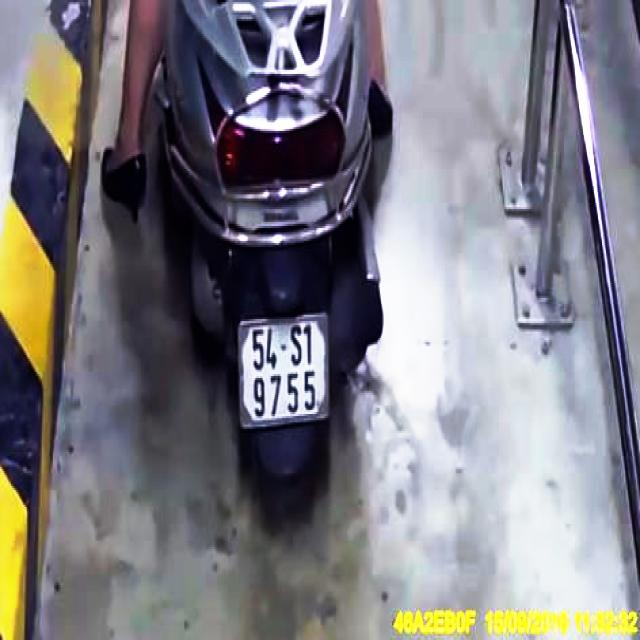license_plate: (241, 312, 331, 426)
